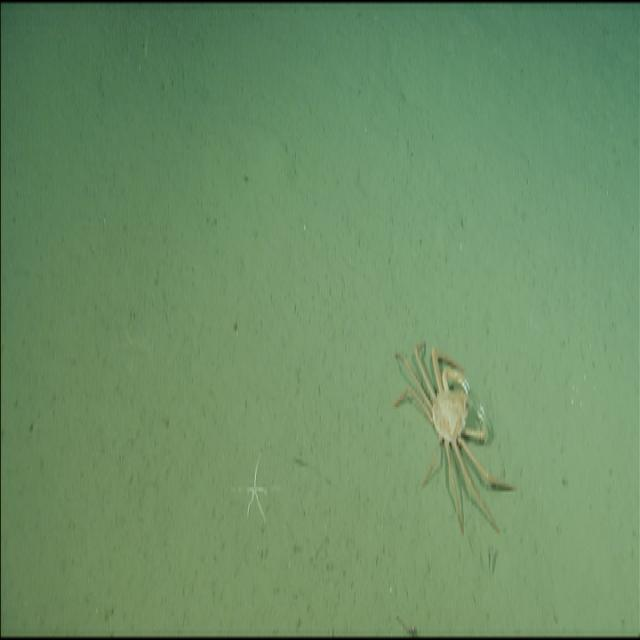Brittle Star: (230, 442, 284, 530)
Not Brittle Star: (391, 334, 517, 551)
